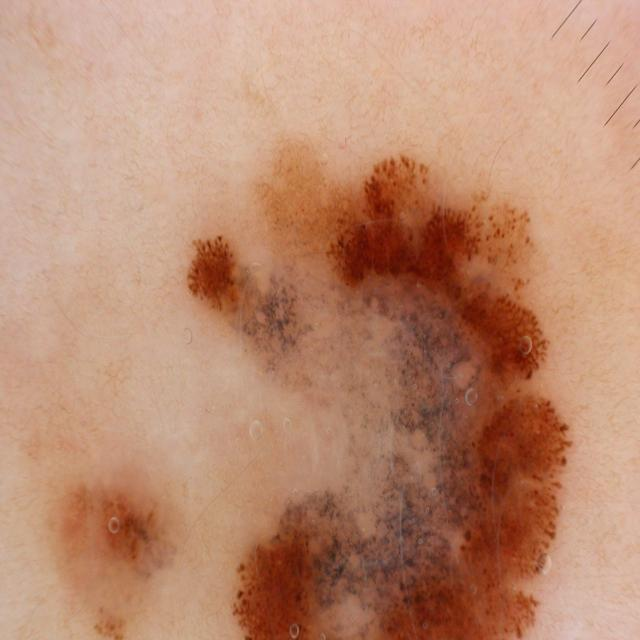Melanoma: (24, 144, 594, 640)
